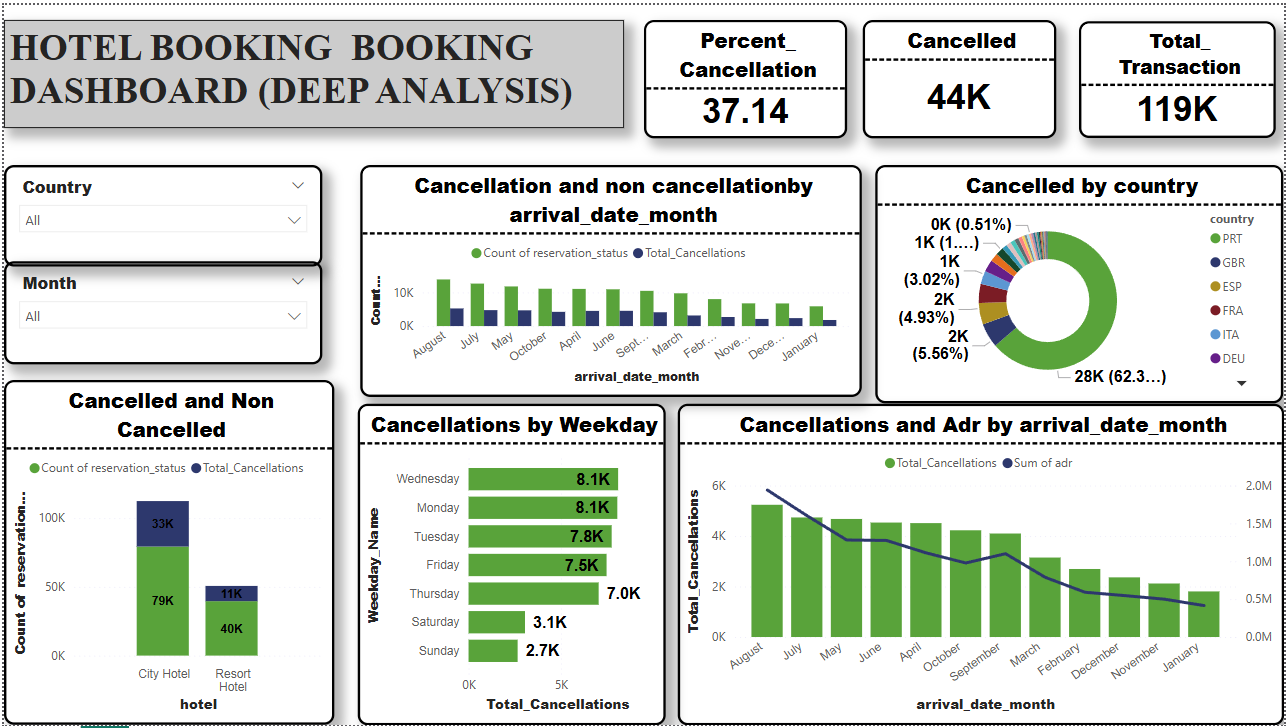

What the dashboard file says about the page in this screenshot:
{"tool":"powerbi","page":{"name":"hotel booking","canvas":[1280,720],"ordinal":0},"visuals":[{"type":"textbox","box":[0,15,620,108.3],"z":0},{"type":"donutChart","title":"Cancelled by country","fields":{"Category":["hotel_booking.country"],"Y":["Sum(hotel_booking.is_canceled)"]},"box":[871.7,160,408.3,238.3],"z":1000},{"type":"slicer","fields":{"Values":["hotel_booking.country"]},"box":[0,160,318.3,101.7],"z":2000},{"type":"slicer","fields":{"Values":["hotel_booking.arrival_date_month"]},"box":[0,256.7,318.3,103.3],"z":3000},{"type":"card","title":"Percent_ Cancellation","fields":{"Values":["hotel_booking.Cancellation_Percentage"]},"box":[640,15,203.3,118.3],"z":4000},{"type":"card","title":"Cancelled","fields":{"Values":["hotel_booking.Total_Cancellations"]},"box":[858.3,15,193.3,118.3],"z":5000},{"type":"card","title":"Total_    Transaction","fields":{"Values":["hotel_booking.Total_transactions"]},"box":[1075,16.7,196.7,116.7],"z":6000},{"type":"lineStackedColumnComboChart","title":"Cancellations and Adr by arrival_date_month","fields":{"Category":["hotel_booking.arrival_date_month"],"Y":["hotel_booking.Total_Cancellations"],"Y2":["Sum(hotel_booking.adr)"]},"box":[673.3,398.3,606.7,321.7],"z":7000},{"type":"columnChart","title":"Cancelled and Non Cancelled","fields":{"Category":["hotel_booking.hotel"],"Y":["CountNonNull(hotel_booking.reservation_status)","hotel_booking.Total_Cancellations"]},"box":[0,375,330,345],"z":8000},{"type":"clusteredColumnChart","title":"Cancellation  and non cancellationby arrival_date_month","fields":{"Category":["hotel_booking.arrival_date_month"],"Y":["CountNonNull(hotel_booking.reservation_status)","hotel_booking.Total_Cancellations"]},"box":[356.7,160,501.7,231.7],"z":9000},{"type":"clusteredBarChart","title":"Cancellations by Weekday","fields":{"Category":["hotel_booking.Weekday_Name"],"Y":["hotel_booking.Total_Cancellations"]},"box":[353.3,398.3,308.3,321.7],"z":10000}]}

Visuals, with their boxes in screenshot pixels (x1, y1, x2, y2), scaled from the page's 1280x720 canvas onto the 1286x728 screenshot:
textbox: {"left": 0, "top": 15, "right": 623, "bottom": 125}
"Cancelled by country" donutChart: {"left": 876, "top": 162, "right": 1285, "bottom": 403}
slicer - hotel_booking.country: {"left": 0, "top": 162, "right": 320, "bottom": 265}
slicer - hotel_booking.arrival_date_month: {"left": 0, "top": 260, "right": 320, "bottom": 364}
"Percent_ Cancellation" card: {"left": 643, "top": 15, "right": 847, "bottom": 135}
"Cancelled" card: {"left": 862, "top": 15, "right": 1057, "bottom": 135}
"Total_    Transaction" card: {"left": 1080, "top": 17, "right": 1278, "bottom": 135}
"Cancellations and Adr by arrival_date_month" lineStackedColumnComboChart: {"left": 676, "top": 403, "right": 1285, "bottom": 727}
"Cancelled and Non Cancelled" columnChart: {"left": 0, "top": 379, "right": 332, "bottom": 727}
"Cancellation  and non cancellationby arrival_date_month" clusteredColumnChart: {"left": 358, "top": 162, "right": 862, "bottom": 396}
"Cancellations by Weekday" clusteredBarChart: {"left": 355, "top": 403, "right": 665, "bottom": 727}
